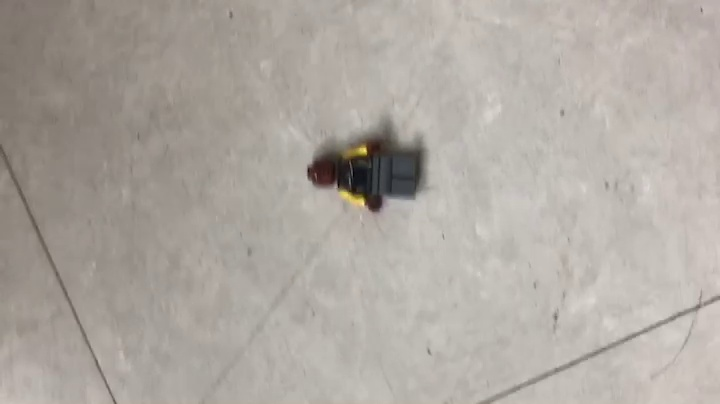people: (304, 140, 428, 215)
